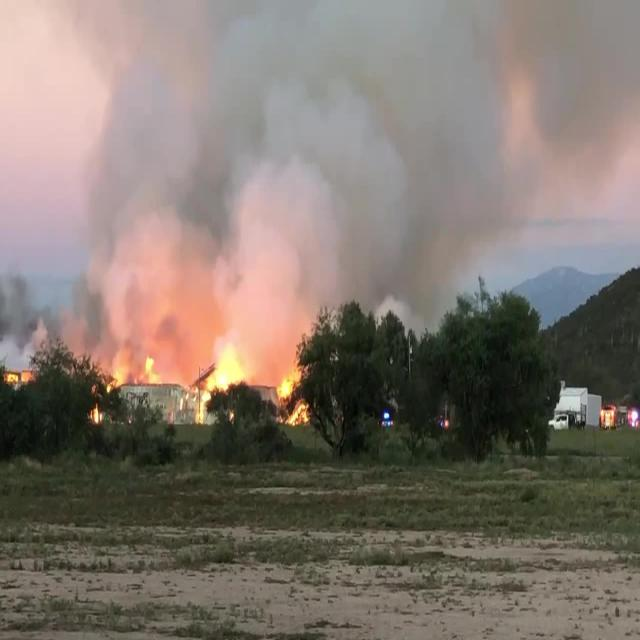Fire: (193, 344, 252, 429), (268, 359, 316, 434)
Smoke: (205, 0, 640, 387), (1, 0, 312, 384)
